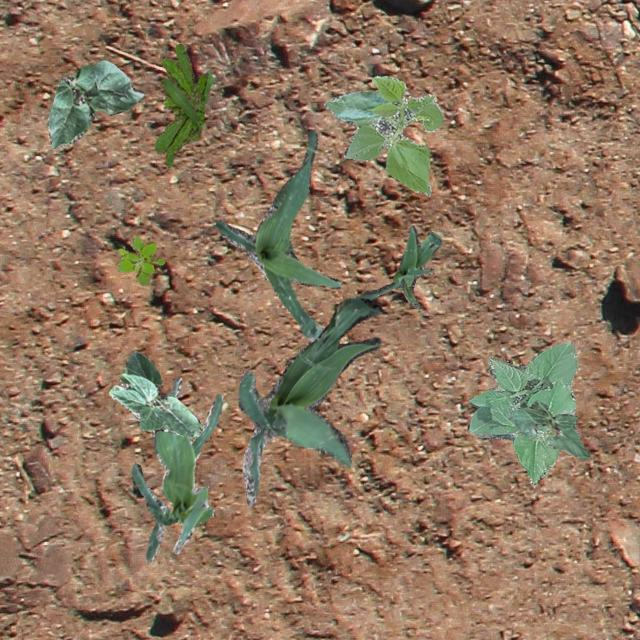crop: (238, 296, 380, 504), (212, 128, 340, 340), (130, 374, 222, 562), (466, 341, 576, 484), (322, 74, 442, 194), (46, 59, 144, 148), (108, 350, 200, 436), (356, 225, 440, 306), (508, 399, 588, 458)
weed: (154, 42, 212, 166), (115, 234, 163, 284)
